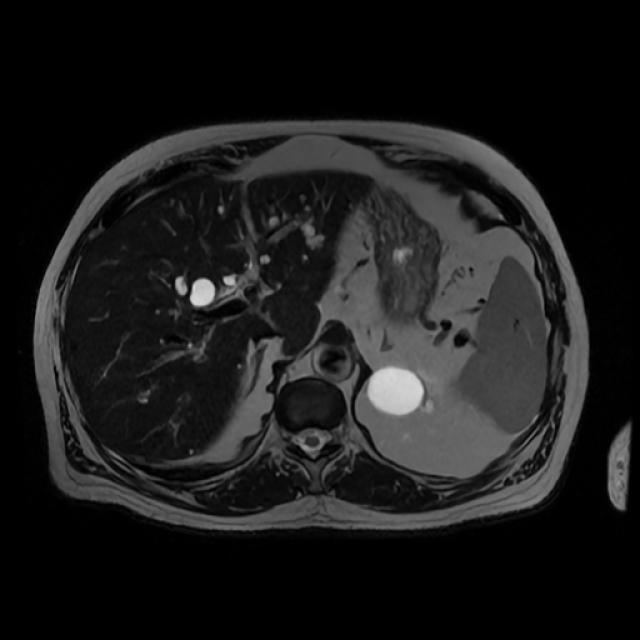sol: (365, 365, 438, 416)
